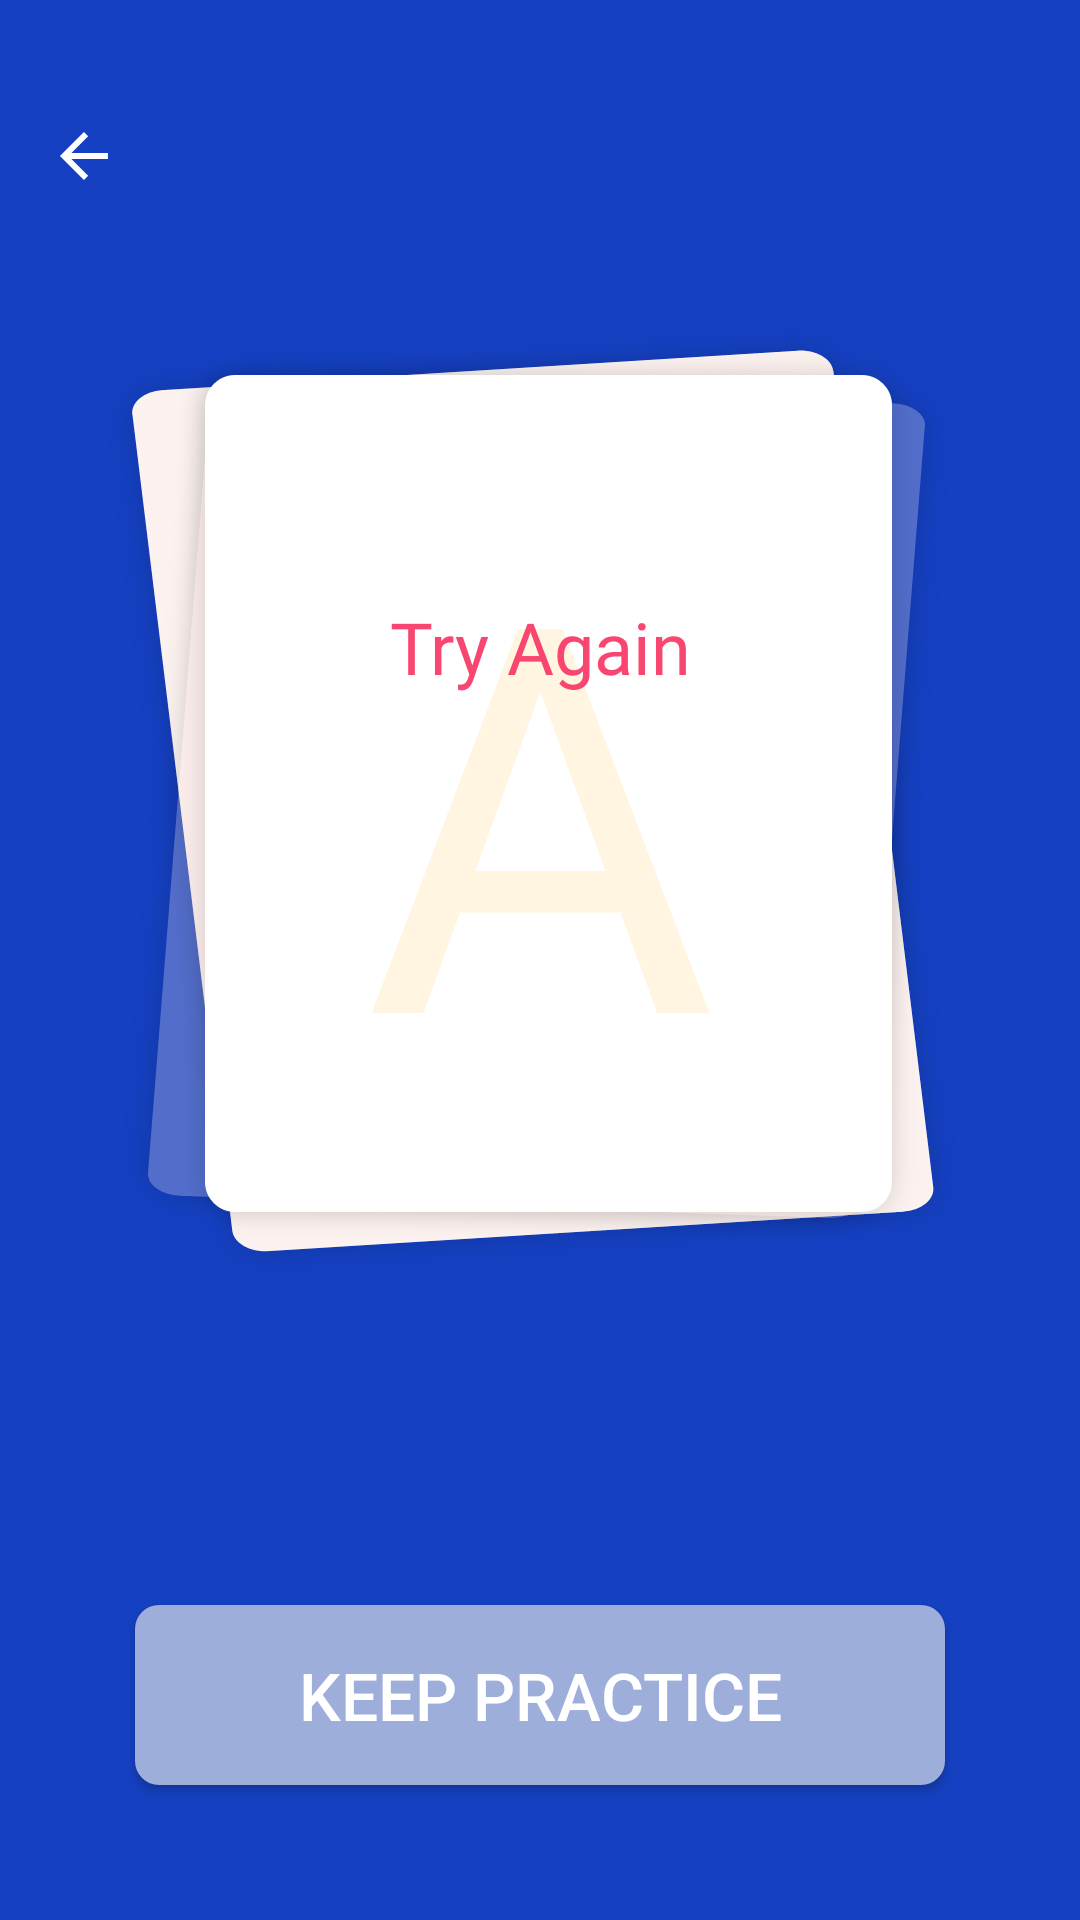

Point at icon controls on the screen. Image size 1080 x 1920, points as (x,y).
back: (84,156)
